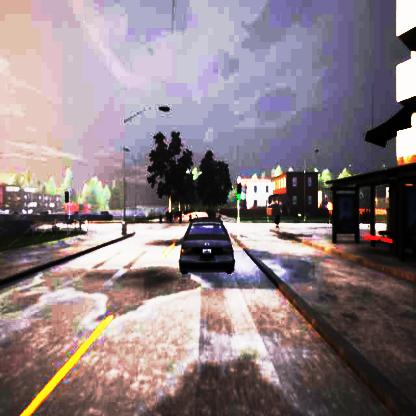vehicle: (179, 220, 235, 275)
